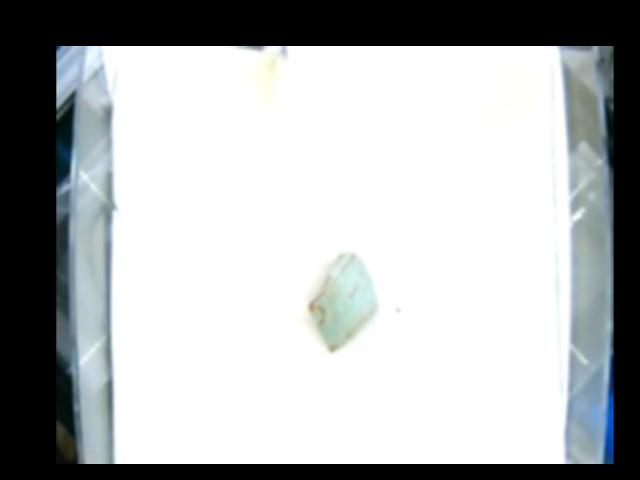China: (310, 255, 379, 350)
